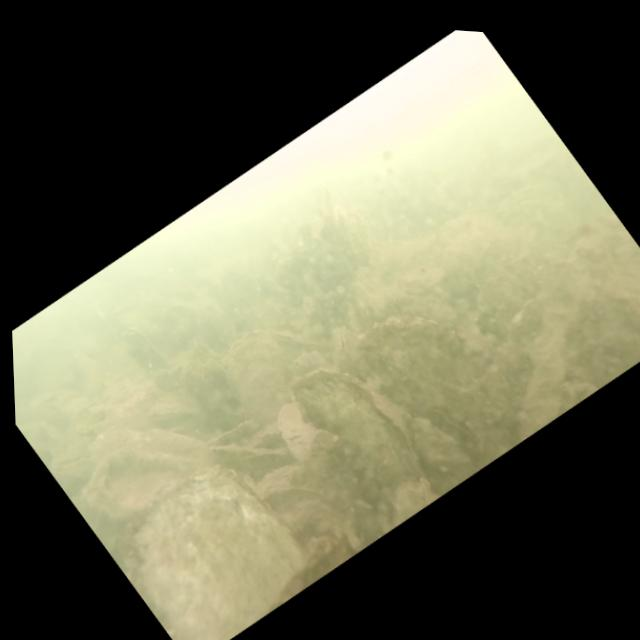Oyster-Closed: (91, 434, 326, 640), (346, 272, 546, 491), (282, 335, 460, 535), (318, 320, 376, 384), (267, 308, 326, 369)
Oyster-Indeterminate: (470, 197, 640, 422), (68, 403, 219, 545), (202, 316, 318, 437), (161, 335, 257, 443), (264, 394, 332, 467)
Oyster-Open: (399, 392, 493, 493), (108, 316, 174, 390), (47, 430, 111, 491), (142, 385, 197, 437)
